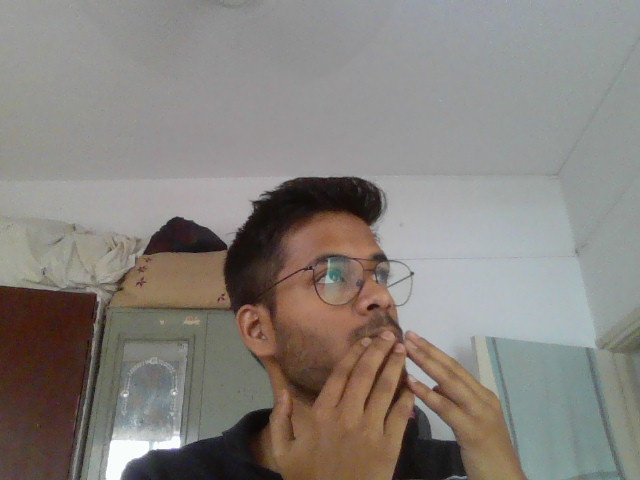thankyou: (263, 322, 543, 480)
